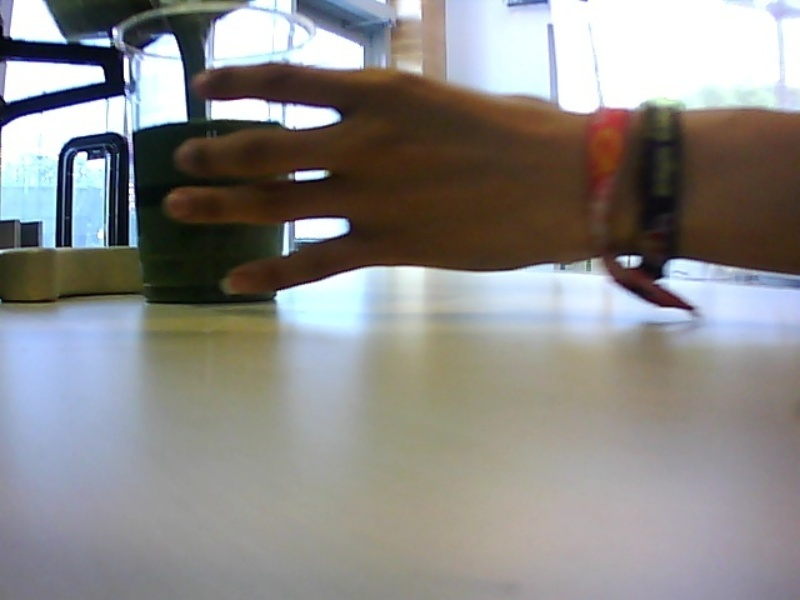cup: (108, 3, 319, 307)
limit: (130, 112, 291, 140)
